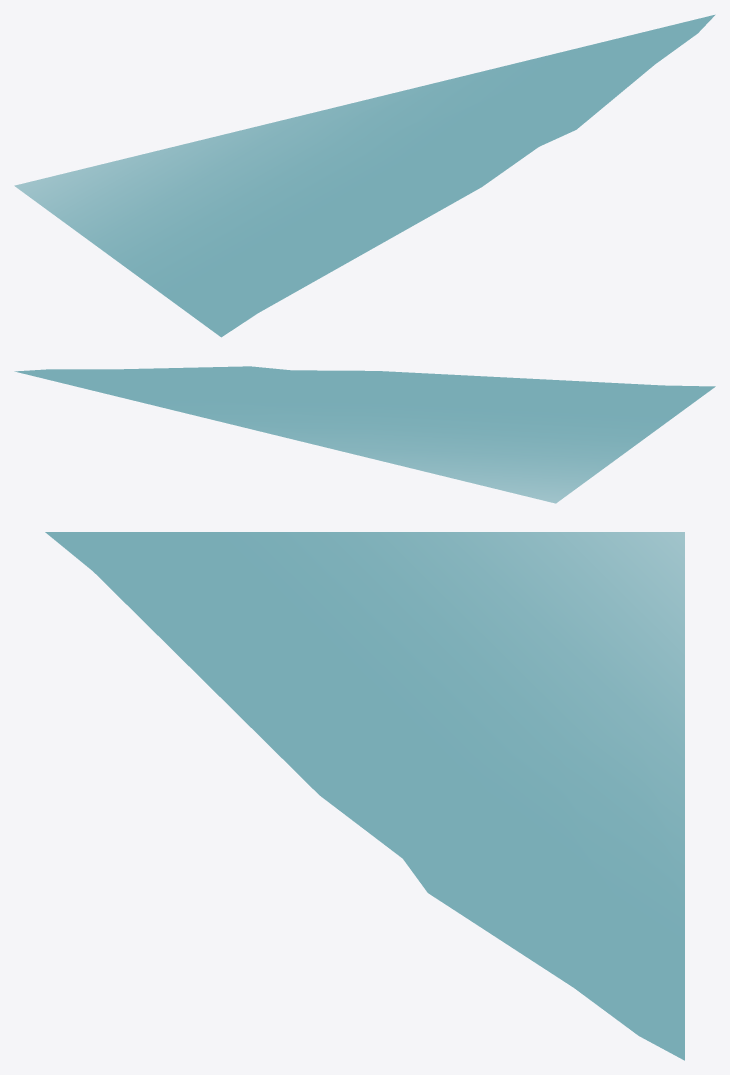
3 views of the same model, one above another, from view 1: azimuth 30°, elevation 25°; view 2: azimuth 150°, elevation 25°; view 3: azimuth 270°, elevation 25° (orthographic). The views are drawn at different scales.
Visible parts, largest first — view 1: city; view 2: city; view 3: city.
Boxes of the visible parts, x1=… form: city: x1=14, y1=14, x2=715, y2=337; city: x1=14, y1=366, x2=715, y2=503; city: x1=45, y1=532, x2=684, y2=1060.
Size of the model in its own units: 422 by 0 by 216.
